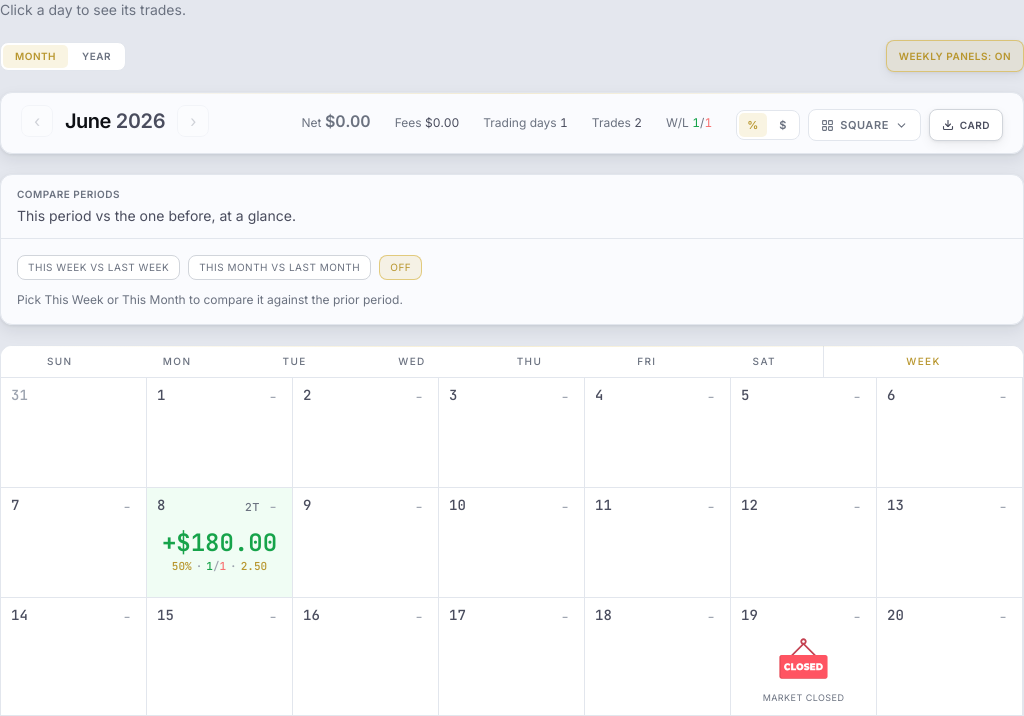
Test case: AM4 a ladder row opens the full week › AM4b a NON-straddling row opens the same range it shows
Click the button "Year".
click(97, 56)  # box x1=70 y1=44 x2=123 y2=68
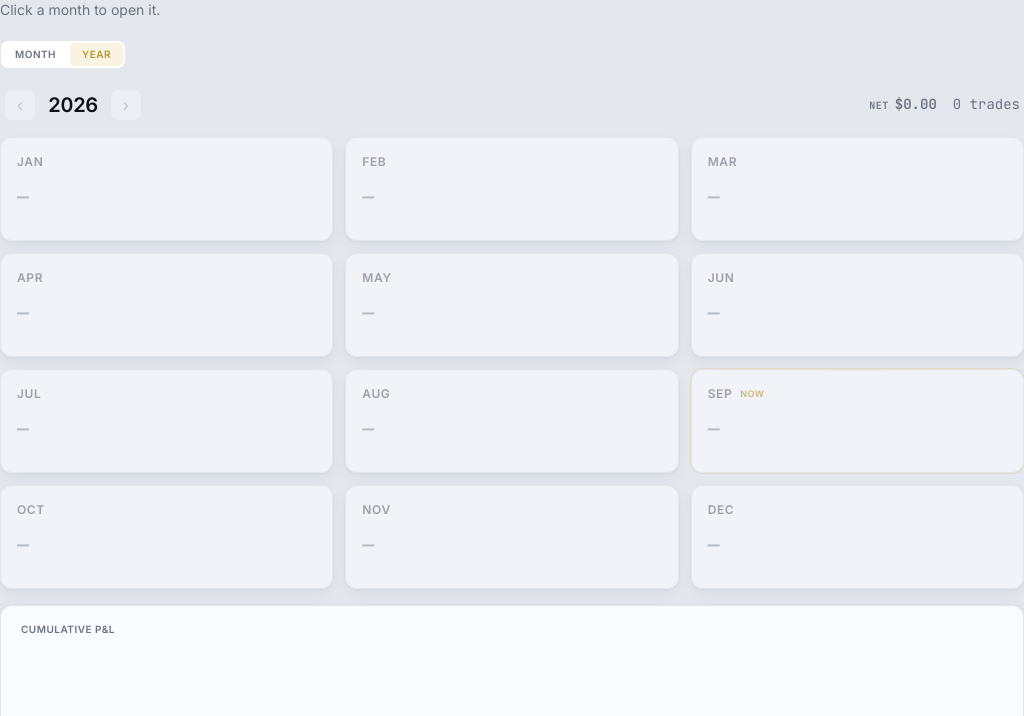
Click the button "Jun —".
click(721, 278)  # box x1=691 y1=253 x2=1023 y2=357
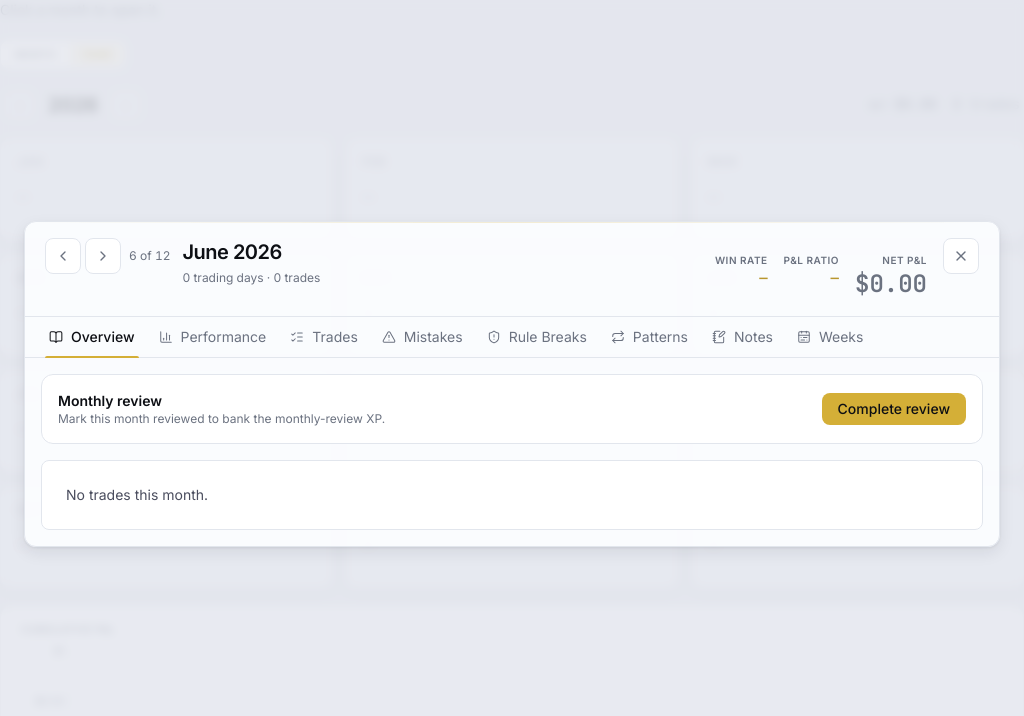
Expected: the heading with id "month-review-title" reads "June 2026", x1=182 y1=240 x2=282 y2=264
Click the tab "Weeks".
click(830, 337)  # box x1=785 y1=317 x2=875 y2=357
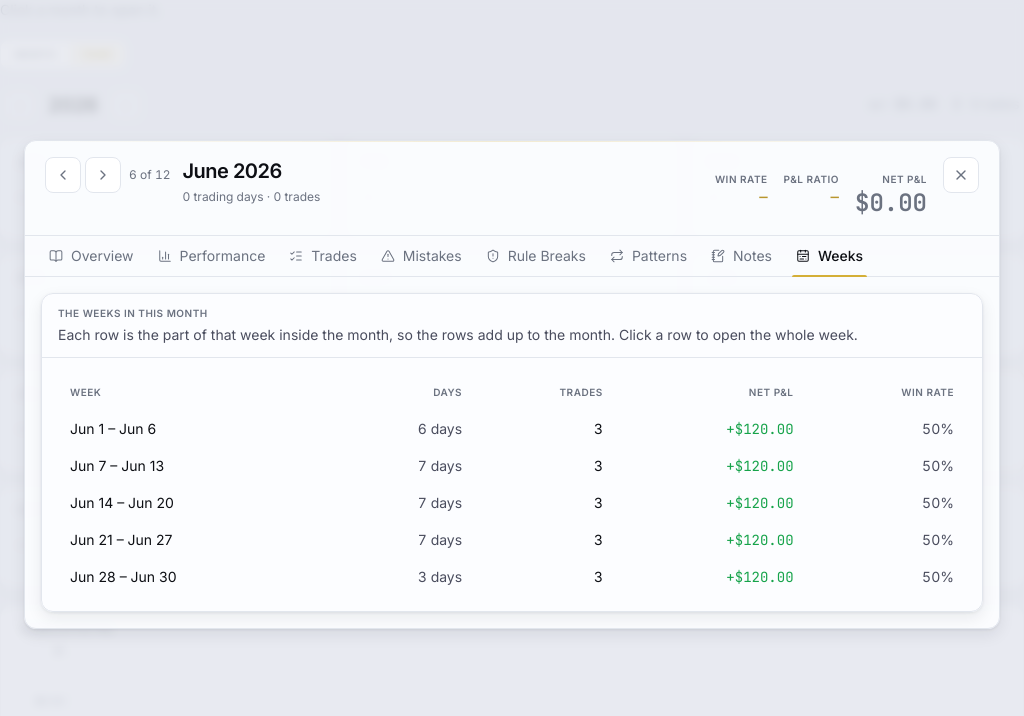
Click the row "Jun 7 – Jun 13 7 days 3 +$120.00 50%".
click(512, 466)  # box x1=58 y1=447 x2=966 y2=484
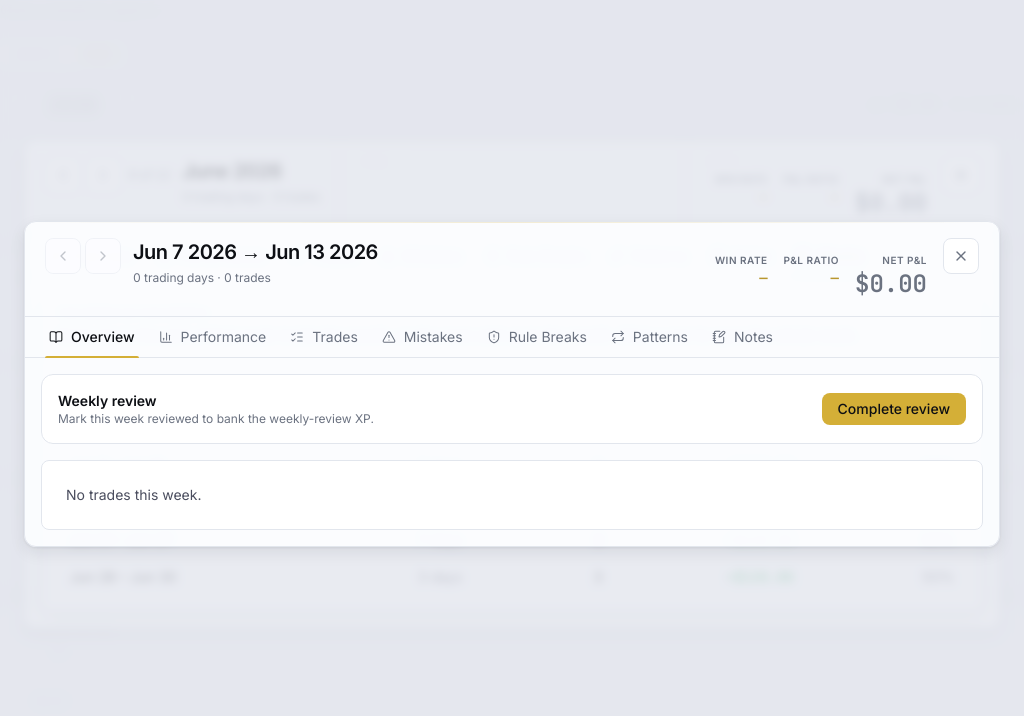
Expected: the heading with id "week-review-title" reads "Jun 7 2026 → Jun 13 2026", x1=133 y1=240 x2=378 y2=264
